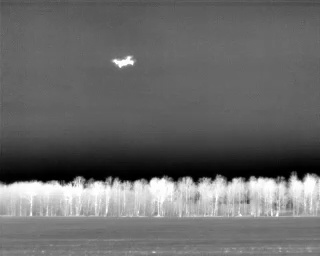DRONE: (108, 51, 140, 73)
